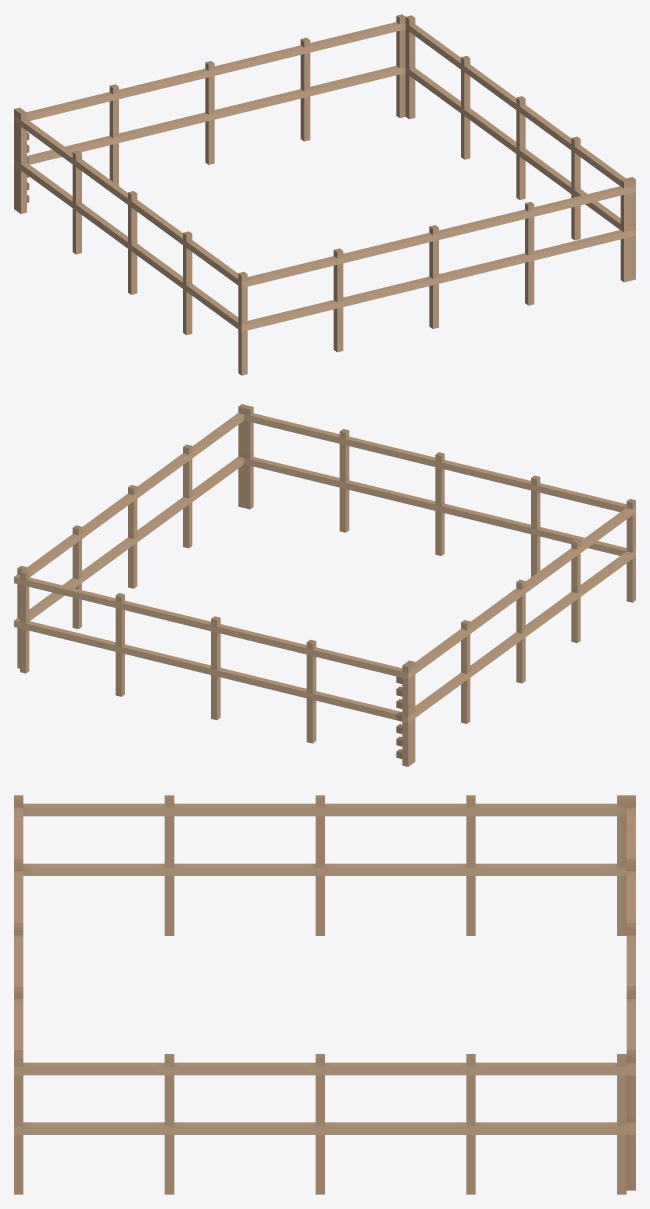
The model's file is life_stage_scaffolding_8.glb.
3 renders of one model, top to bottom at view 1: azimuth 30°, elevation 25°; view 2: azimuth 150°, elevation 25°; view 3: azimuth 270°, elevation 25°, orthographic. The views are drawn at different scales.
Visible parts, largest first — view 1: life_stage_scaffolding_8; view 2: life_stage_scaffolding_8; view 3: life_stage_scaffolding_8.
Part boxes in pixels (<box>): life_stage_scaffolding_8: <box>14,14,635,375</box>; life_stage_scaffolding_8: <box>14,404,635,766</box>; life_stage_scaffolding_8: <box>14,795,635,1194</box>.
Size of the model in its own units: 8.25 by 2 by 8.25.
